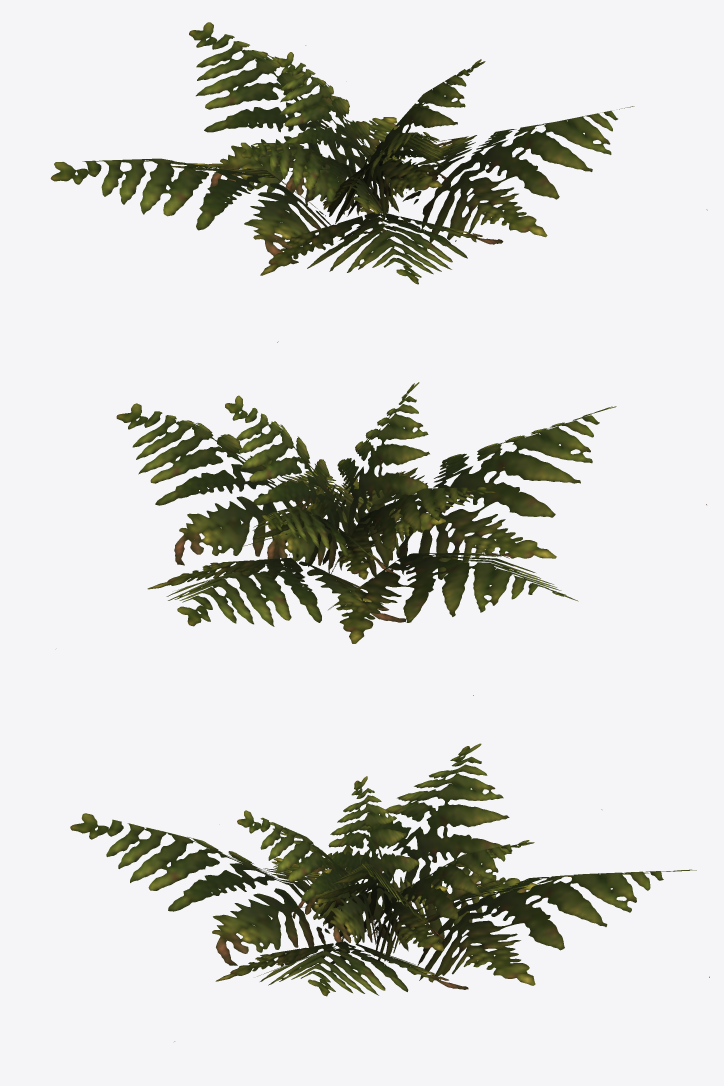
The model's file is cao70_ani.fbx.
The picture shows the model from 3 angles, top to bottom: view 1: azimuth 30°, elevation 25°; view 2: azimuth 150°, elevation 25°; view 3: azimuth 270°, elevation 25°; orthographic projection. The views are drawn at different scales.
Parts seen in each view (by area): view 1: cao70_ani; view 2: cao70_ani; view 3: cao70_ani.
Part boxes in pixels (left/top/right/bottom): cao70_ani: left=50, top=22, right=707, bottom=342; cao70_ani: left=116, top=382, right=706, bottom=695; cao70_ani: left=70, top=743, right=709, bottom=1041.
Size of the model in its own units: 1042 by 297 by 1037.
Materials: 1 (1 with a texture image).
